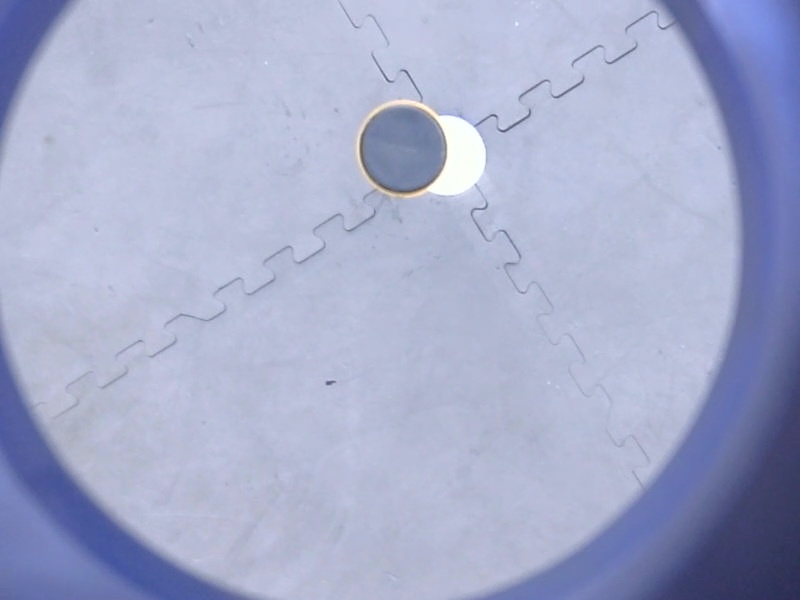tip: (351, 95, 456, 203)
